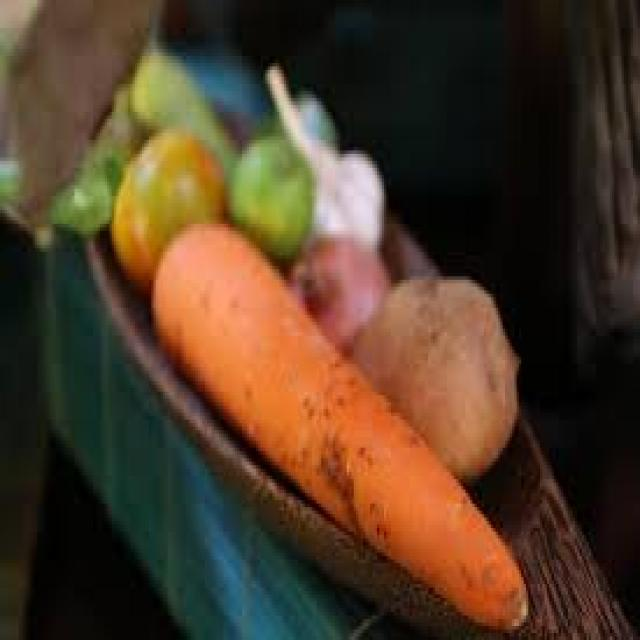organic waste: (149, 217, 528, 636), (352, 269, 516, 483), (4, 0, 156, 206), (263, 59, 382, 245), (112, 136, 230, 294), (128, 35, 235, 182), (284, 231, 386, 350), (223, 126, 312, 259), (258, 84, 338, 150), (107, 74, 147, 150)
